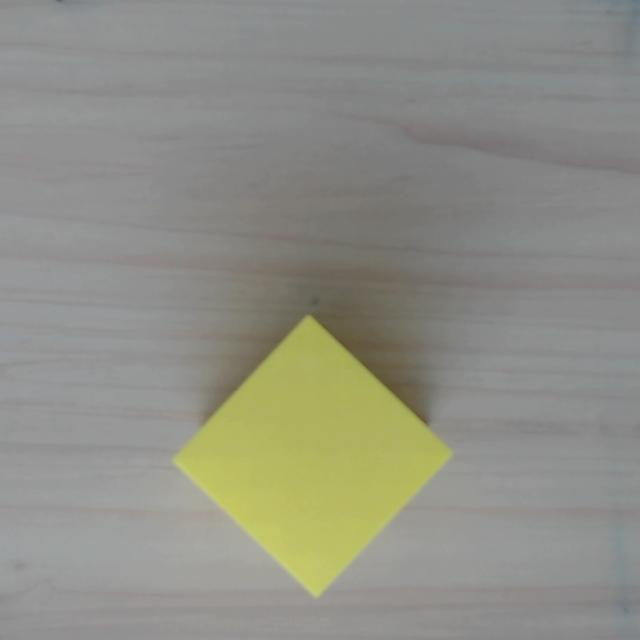Kubus-Kuning-505050: (169, 313, 456, 599)
